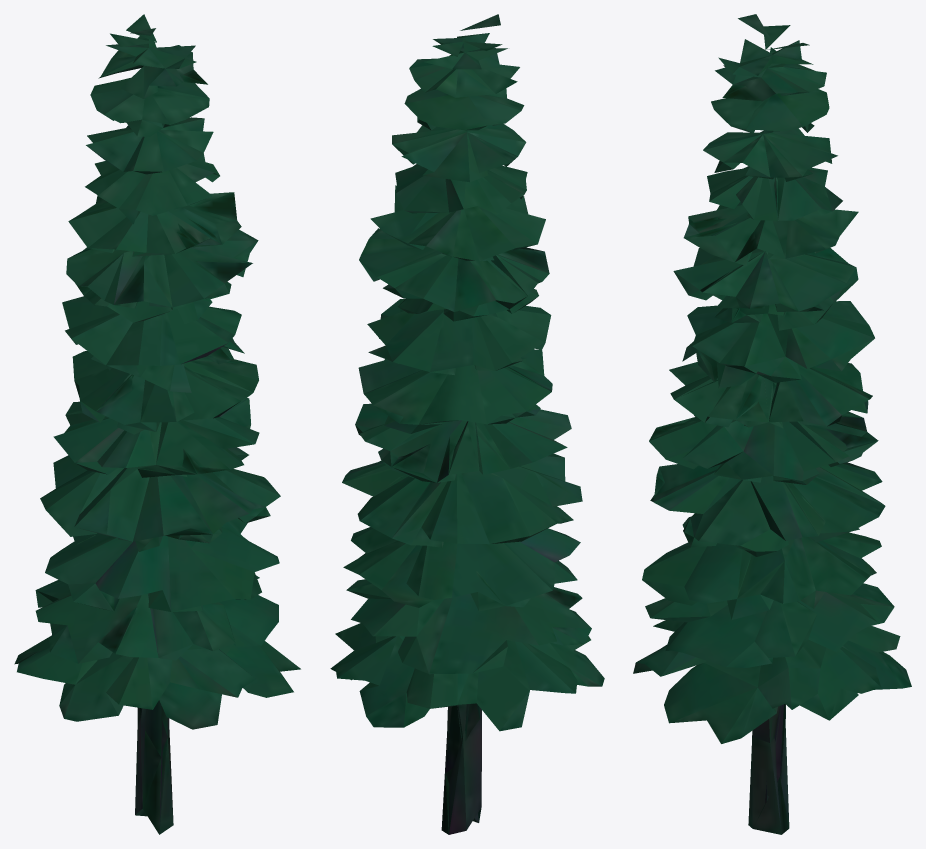
Rendered from pine_3.glb.
The picture shows the model from 3 angles, left to right: view 1: azimuth 30°, elevation 25°; view 2: azimuth 150°, elevation 25°; view 3: azimuth 270°, elevation 25°; orthographic projection.
Size of the model in its own units: 0.527 by 1.64 by 0.5171.
Materials: 1 (1 with a texture image).
